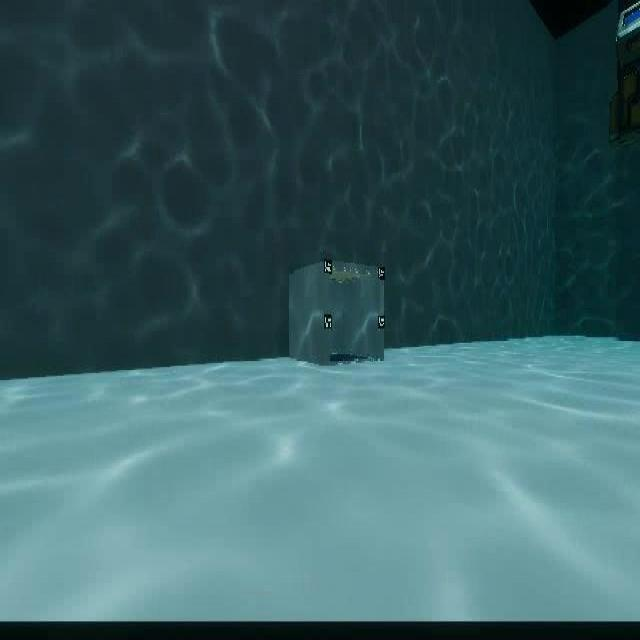Docking Station: (279, 242, 395, 372)
